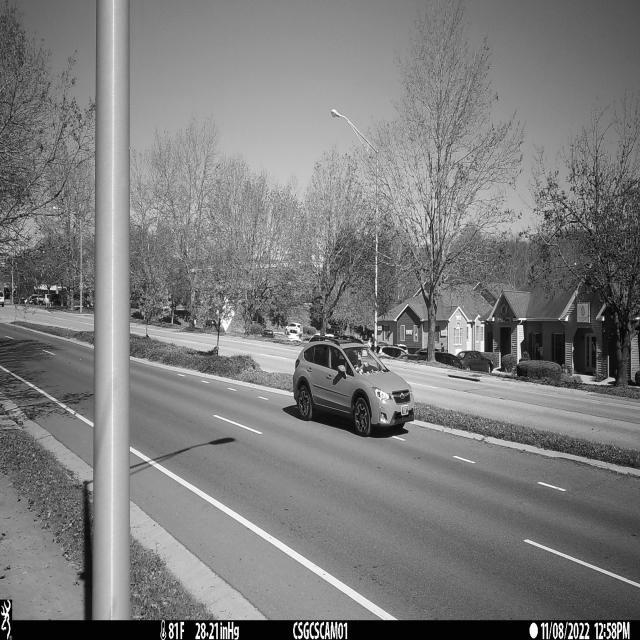SUV: (293, 335, 416, 437)
